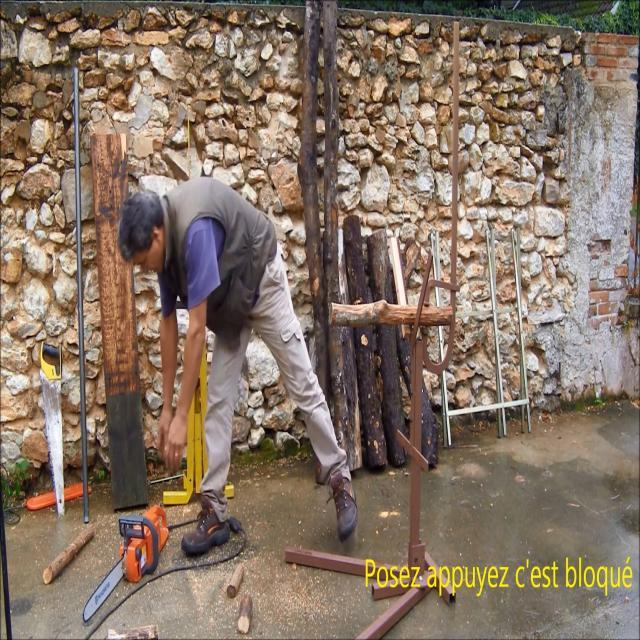Chainsaw: (75, 483, 195, 640)
